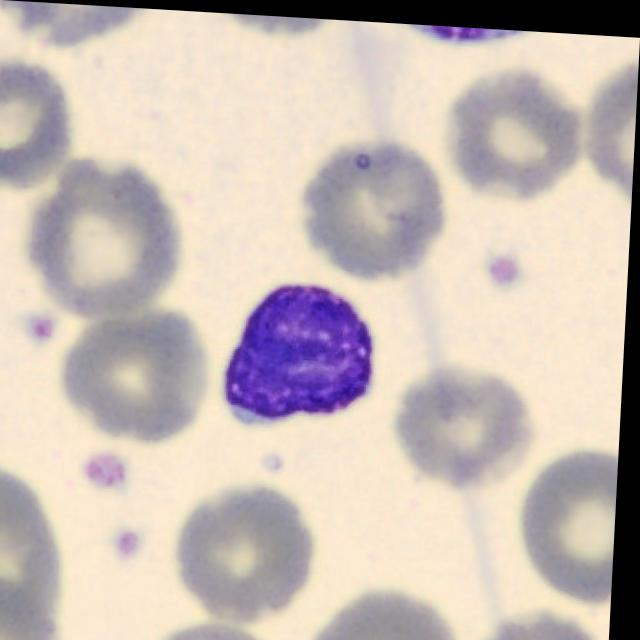Linfocito: (227, 281, 376, 420)
